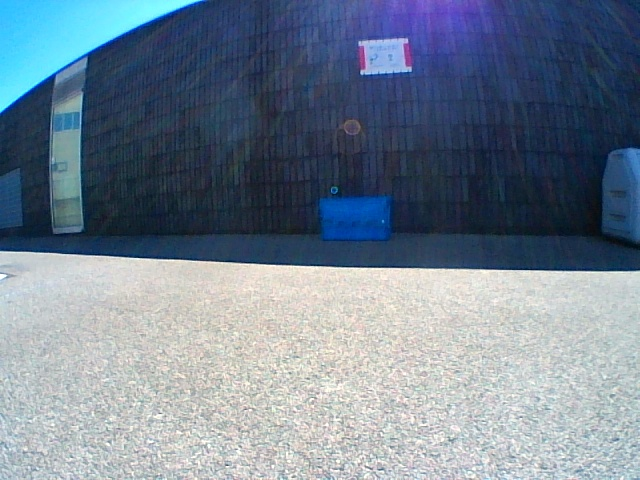blue_box: (320, 196, 390, 239)
